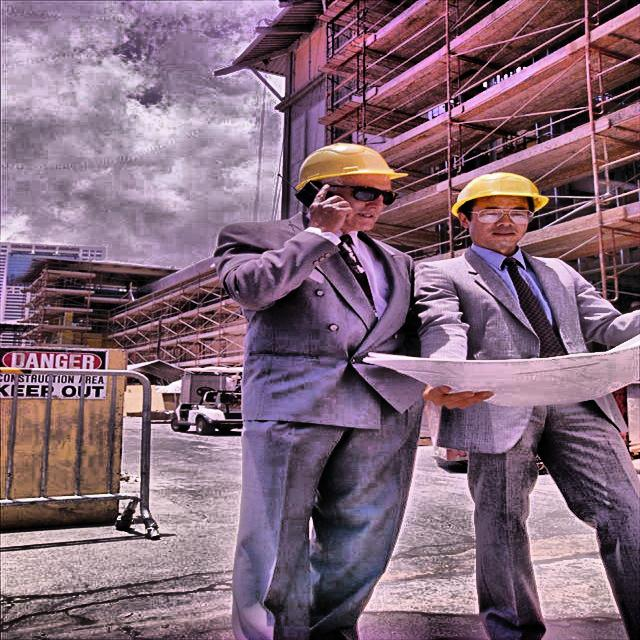helmet: (277, 139, 417, 240), (441, 166, 557, 254)
